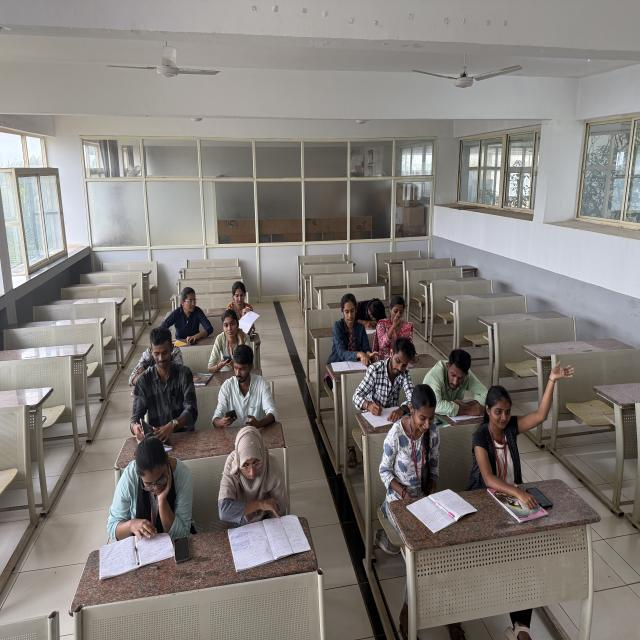Hand Rising: (473, 340, 578, 470)
Reading: (220, 416, 318, 564), (389, 384, 452, 504), (328, 292, 370, 374), (225, 267, 271, 336)
Sleeping: (358, 258, 391, 340)
Using Phone: (222, 356, 284, 441), (208, 305, 260, 390)
Writing: (349, 322, 419, 424)
